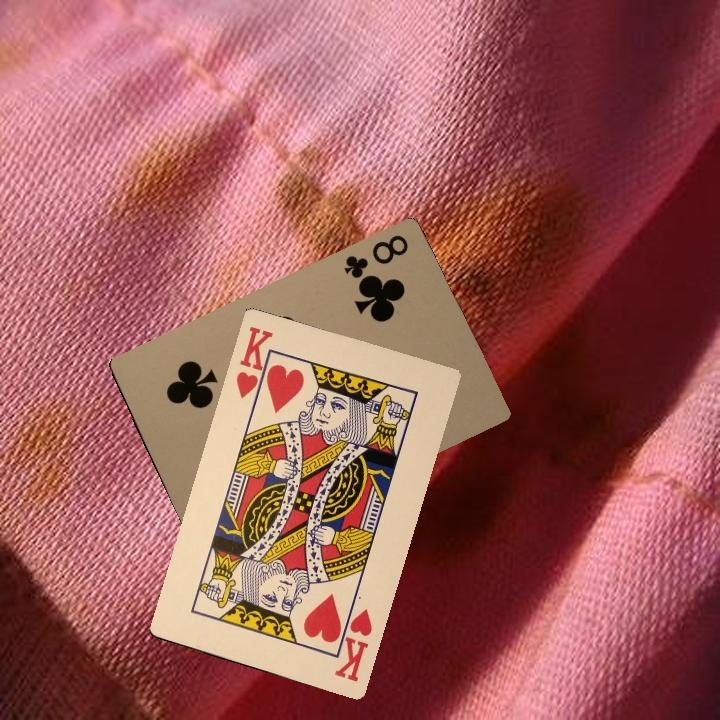8c: (340, 230, 411, 288)
Kh: (231, 322, 278, 406), (330, 600, 375, 685)
